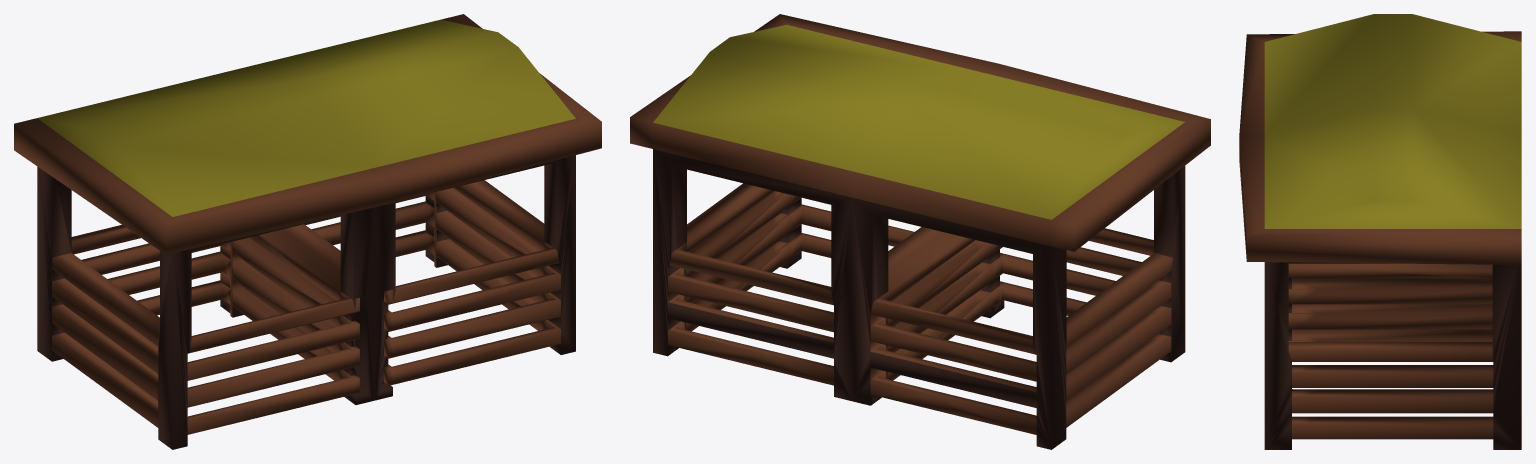
The model's file is Ahir.fbx.
The picture shows the model from 3 angles, left to right: view 1: azimuth 30°, elevation 25°; view 2: azimuth 150°, elevation 25°; view 3: azimuth 270°, elevation 25°; orthographic projection. The views are drawn at different scales.
Parts seen in each view (by area): view 1: Ahir; view 2: Ahir; view 3: Ahir.
Part boxes in pixels (left/top/right/bottom): Ahir: left=14, top=14, right=601, bottom=449; Ahir: left=630, top=14, right=1210, bottom=449; Ahir: left=1239, top=14, right=1521, bottom=449.
Bounding box in the file's own units: 1274 × 710 × 730.
